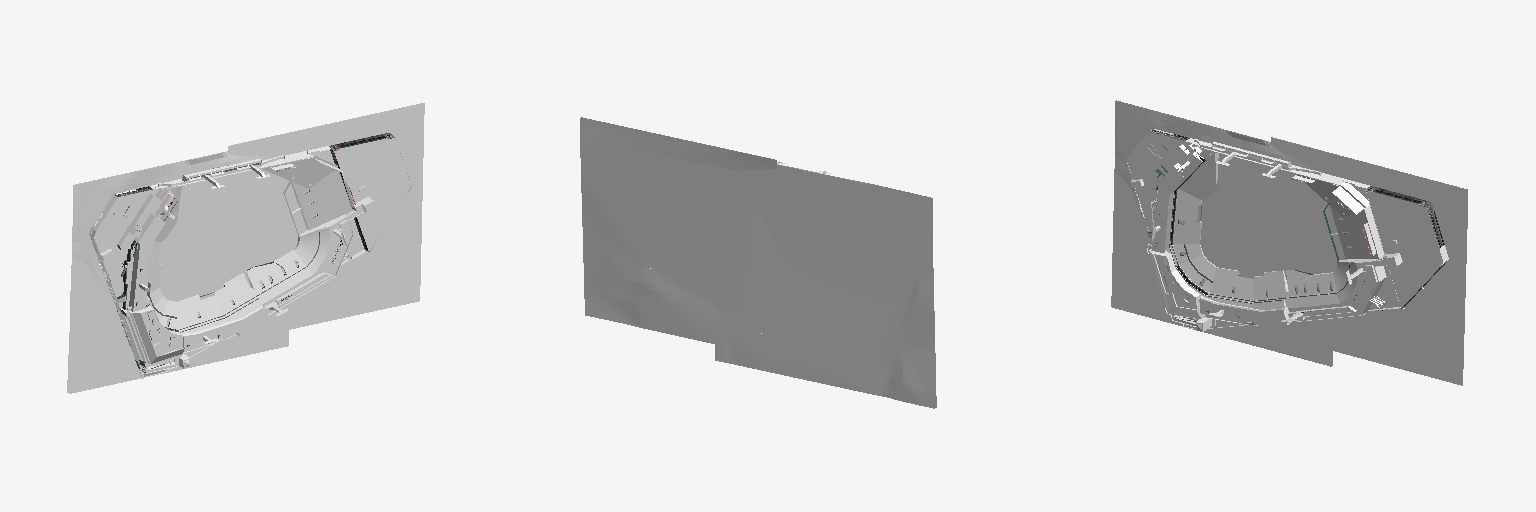
The picture shows the model from 3 angles: view 1: azimuth 30°, elevation 25°; view 2: azimuth 150°, elevation 25°; view 3: azimuth 330°, elevation 25°; orthographic projection.
Parts seen in each view (by area): view 1: (null); view 2: (null); view 3: (null).
Boxes of the visible parts, x1,y1,x2,y2 form: (null): [67, 103, 424, 393]; (null): [580, 117, 936, 408]; (null): [1111, 100, 1467, 385].
Size of the model in its own units: 339 by 195 by 35.3.
Materials: 141 (27 with a texture image).